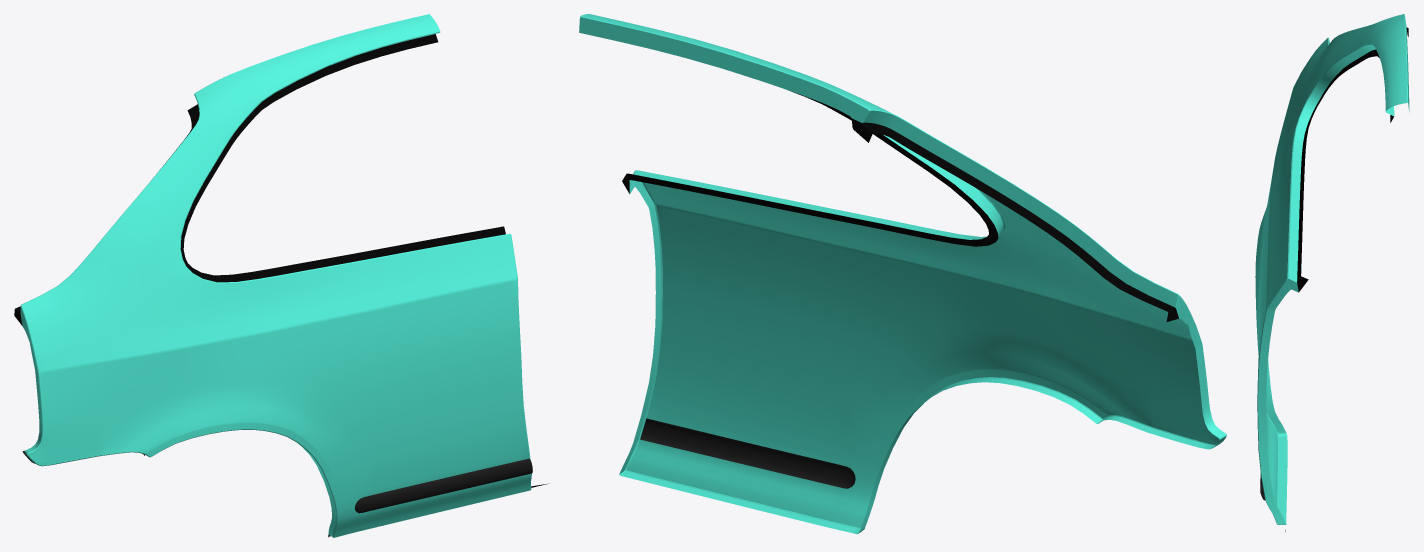
The picture shows the model from 3 angles, left to right: view 1: azimuth 30°, elevation 25°; view 2: azimuth 150°, elevation 25°; view 3: azimuth 270°, elevation 25°; orthographic projection. The views are drawn at different scales.
Parts seen in each view (by area): view 1: H025_10_401B_R_H025_10_401B_R_1_DaS, H025_10_401B_R_3_D_H025_10_401B_R, H025_10_401B_R_H025_10_401B_R_2_D, H025_10_401B_R_H025_10_401B_R_1_DaS_E; view 2: H025_10_401B_R_H025_10_401B_R_1_DaS, H025_10_401B_R_3_D_H025_10_401B_R, H025_10_401B_R_H025_10_401B_R_2_D, H025_10_401B_R_H025_10_401B_R_1_DaS_E; view 3: H025_10_401B_R_H025_10_401B_R_1_DaS, H025_10_401B_R_3_D_H025_10_401B_R, H025_10_401B_R_H025_10_401B_R_1_DaS_E.
Part boxes in pixels (bbox=[...]): H025_10_401B_R_H025_10_401B_R_1_DaS: bbox=[20, 14, 531, 537]; H025_10_401B_R_3_D_H025_10_401B_R: bbox=[14, 34, 548, 537]; H025_10_401B_R_H025_10_401B_R_2_D: bbox=[355, 458, 532, 513]; H025_10_401B_R_H025_10_401B_R_1_DaS_E: bbox=[20, 31, 531, 537]; H025_10_401B_R_H025_10_401B_R_1_DaS: bbox=[579, 14, 1226, 534]; H025_10_401B_R_3_D_H025_10_401B_R: bbox=[622, 91, 1178, 321]; H025_10_401B_R_H025_10_401B_R_2_D: bbox=[640, 418, 855, 488]; H025_10_401B_R_H025_10_401B_R_1_DaS_E: bbox=[580, 16, 1216, 529]; H025_10_401B_R_H025_10_401B_R_1_DaS: bbox=[1255, 14, 1409, 524]; H025_10_401B_R_3_D_H025_10_401B_R: bbox=[1285, 27, 1408, 531]; H025_10_401B_R_H025_10_401B_R_1_DaS_E: bbox=[1257, 14, 1407, 523].
Size of the model in its own units: 141 by 113 by 38.36.
